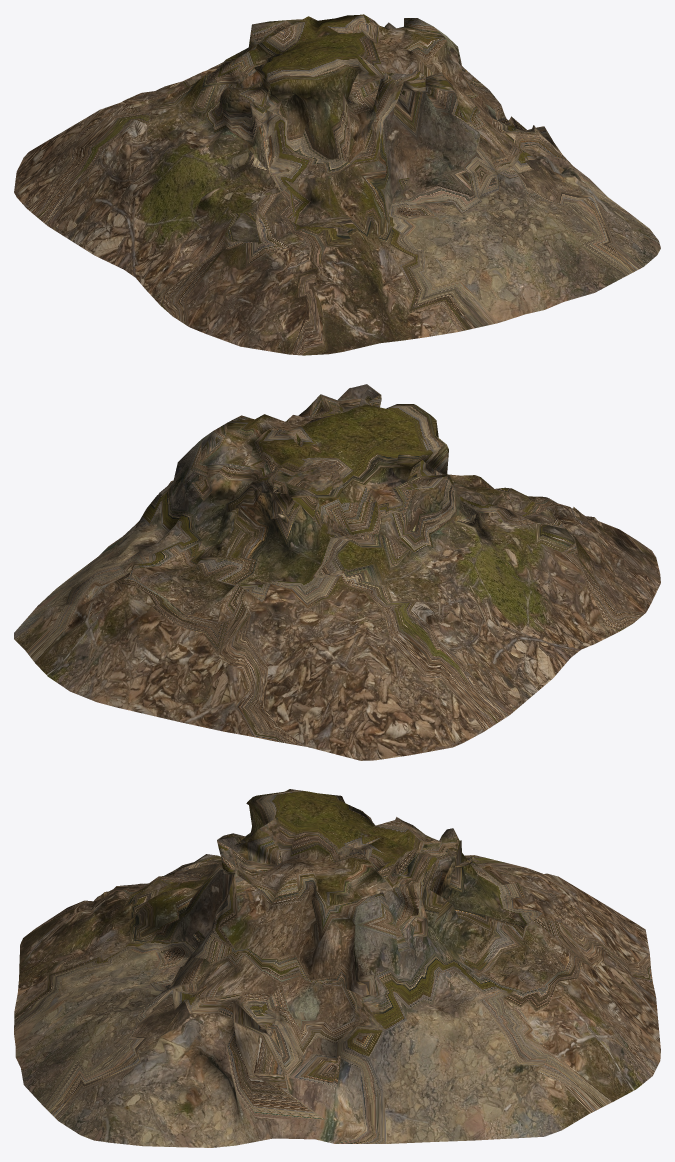
The model's file is tree_stump_01.glb.
The picture shows the model from 3 angles, top to bottom: view 1: azimuth 30°, elevation 25°; view 2: azimuth 150°, elevation 25°; view 3: azimuth 270°, elevation 25°; orthographic projection. The views are drawn at different scales.
Visible parts, largest first — view 1: tree_stump_01; view 2: tree_stump_01; view 3: tree_stump_01.
Part boxes in pixels (<box>): tree_stump_01: <box>14,14,660,355</box>; tree_stump_01: <box>14,384,660,760</box>; tree_stump_01: <box>14,789,660,1147</box>.
Bounding box in the file's own units: 1.42 × 0.5689 × 1.59.
1 material, 1 textured.
